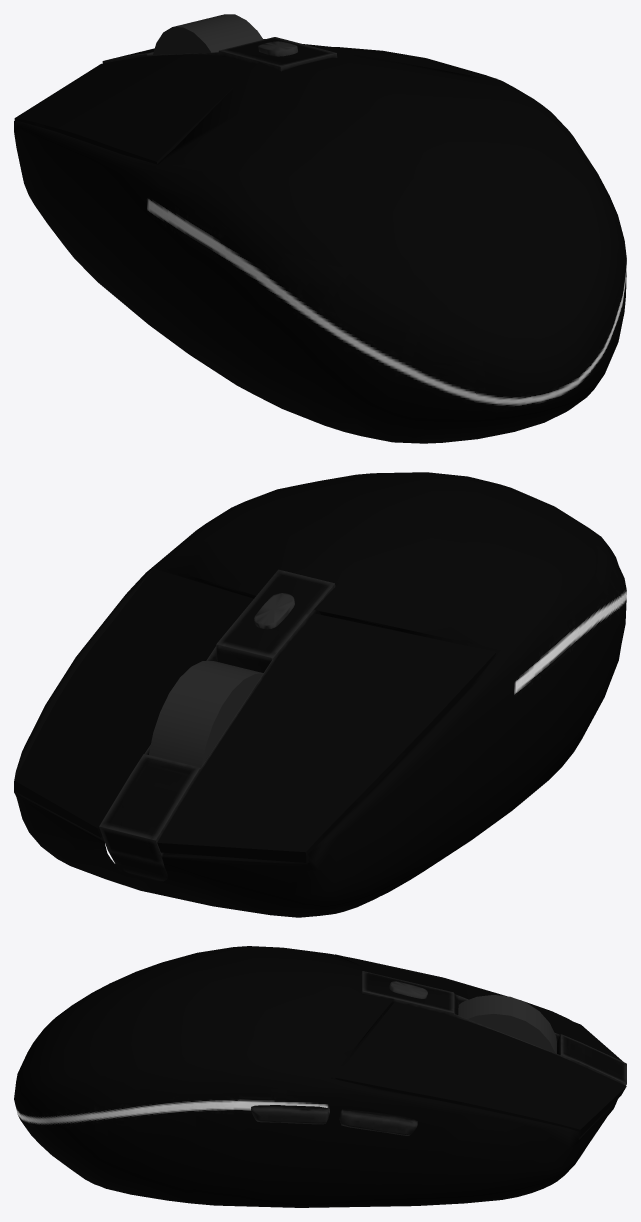
File: mouse-logitech-g305_lod2.glb
3 views of the same model, one above another, from view 1: azimuth 30°, elevation 25°; view 2: azimuth 150°, elevation 25°; view 3: azimuth 270°, elevation 25° (orthographic). The views are drawn at different scales.
Visible parts, largest first — view 1: body; view 2: body; view 3: body.
Boxes of the visible parts, bbox=[...] form: body: bbox=[14, 14, 626, 443]; body: bbox=[14, 472, 626, 917]; body: bbox=[14, 946, 626, 1207].
Size of the model in its own units: 0.0621 by 0.0382 by 0.1166.
3 materials, 2 textured.
